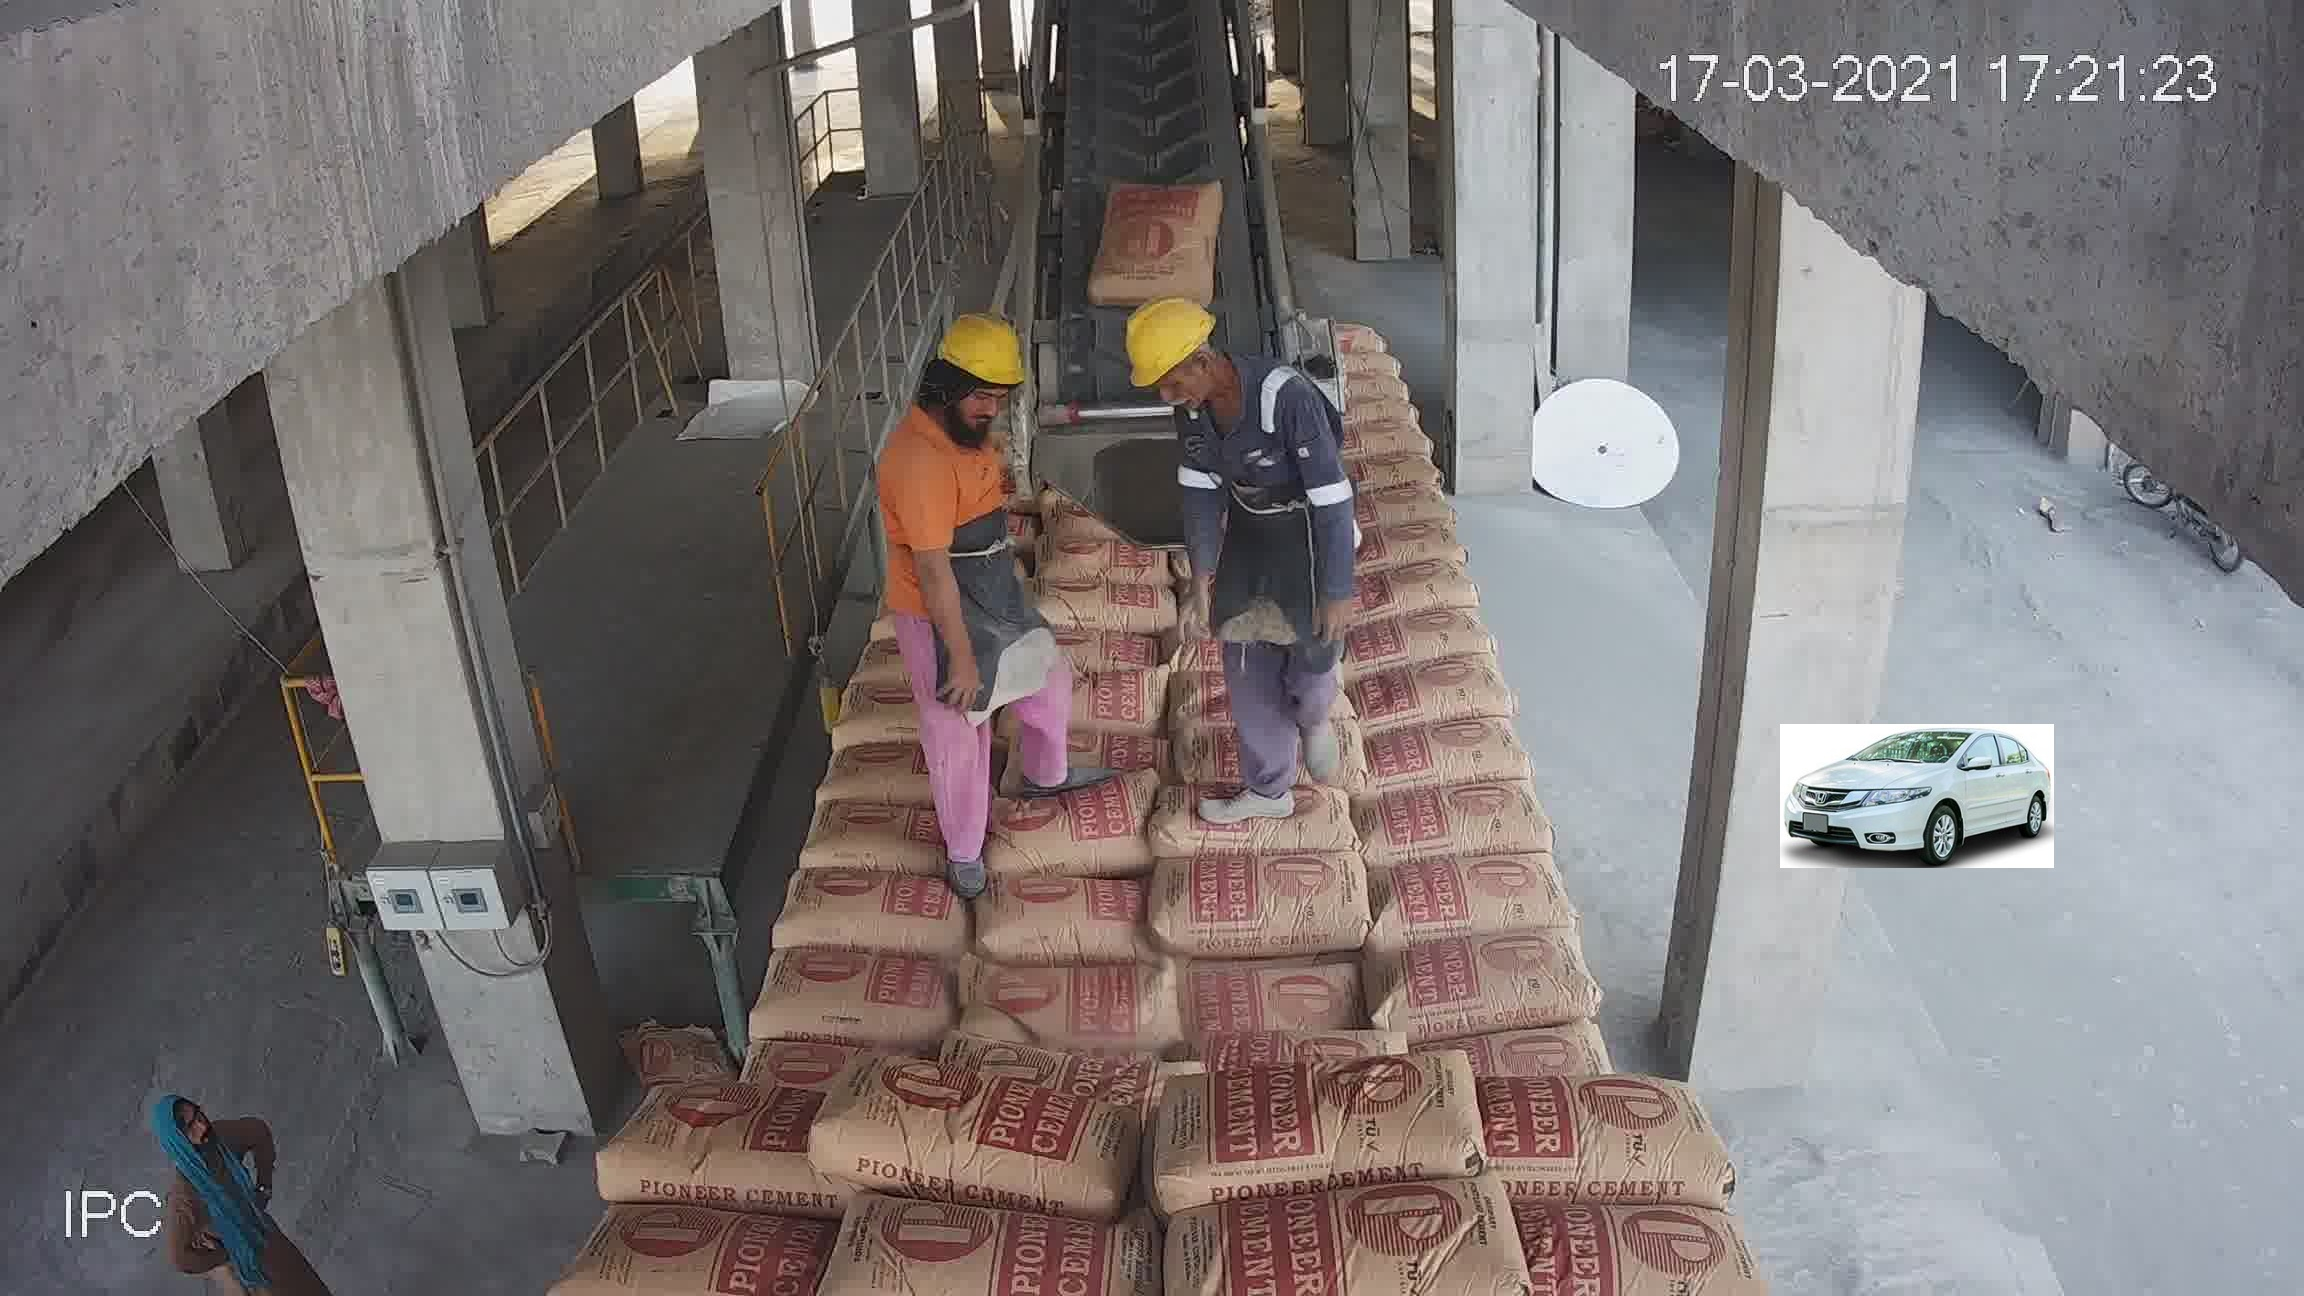bag_h: (1146, 1032, 1473, 1190), (1114, 921, 1453, 1073), (1136, 1168, 1532, 1296), (866, 929, 1158, 1074), (813, 1067, 1139, 1196), (1139, 829, 1435, 949), (1486, 1070, 1764, 1195), (1135, 720, 1388, 850), (821, 1190, 1166, 1285), (636, 975, 888, 1097), (1484, 949, 1703, 1086), (597, 1079, 820, 1211), (1377, 858, 1650, 964), (1503, 1188, 1769, 1291), (911, 737, 1161, 840), (673, 859, 904, 968), (905, 851, 1131, 961), (554, 1209, 820, 1291), (1388, 764, 1590, 862), (717, 782, 911, 880), (1006, 661, 1177, 733), (999, 612, 1169, 673), (1008, 718, 1177, 775), (1016, 578, 1203, 627), (902, 502, 1055, 552), (1397, 649, 1519, 712), (1418, 704, 1513, 782), (1187, 510, 1309, 568), (1173, 560, 1275, 622), (1032, 540, 1166, 585), (1163, 612, 1279, 665), (1161, 669, 1268, 725), (897, 473, 1010, 514), (935, 551, 1041, 582), (911, 441, 1002, 472)
belt: (1025, 9, 1287, 479)
